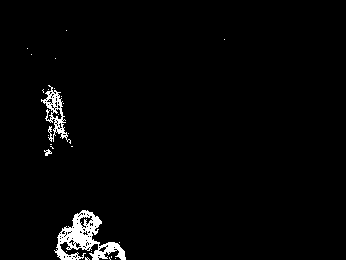person: (41, 84, 72, 158)
